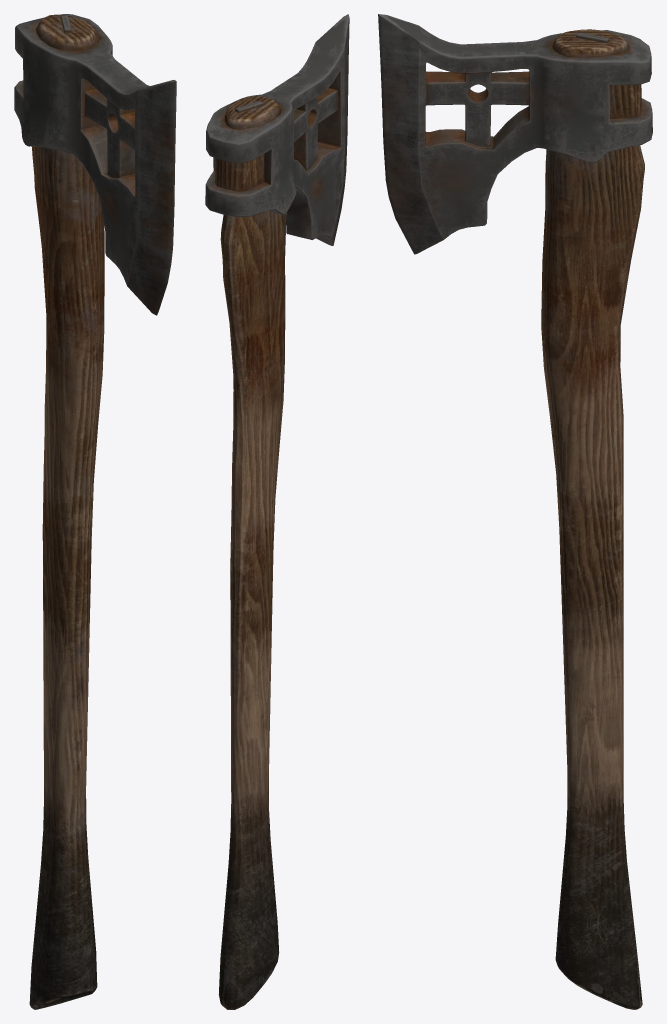
File: wooden_axe_03.glb
The picture shows the model from 3 angles, left to right: view 1: azimuth 30°, elevation 25°; view 2: azimuth 150°, elevation 25°; view 3: azimuth 270°, elevation 25°; orthographic projection. The views are drawn at different scales.
Parts seen in each view (by area): view 1: wooden_axe_03; view 2: wooden_axe_03; view 3: wooden_axe_03.
Boxes of the visible parts, box(x1,y1,x2,y2) form: wooden_axe_03: box(14, 14, 176, 1009); wooden_axe_03: box(205, 14, 349, 1009); wooden_axe_03: box(378, 14, 652, 1009).
Size of the model in its own units: 0.0504 by 0.6318 by 0.1584.
1 material, 1 textured.
